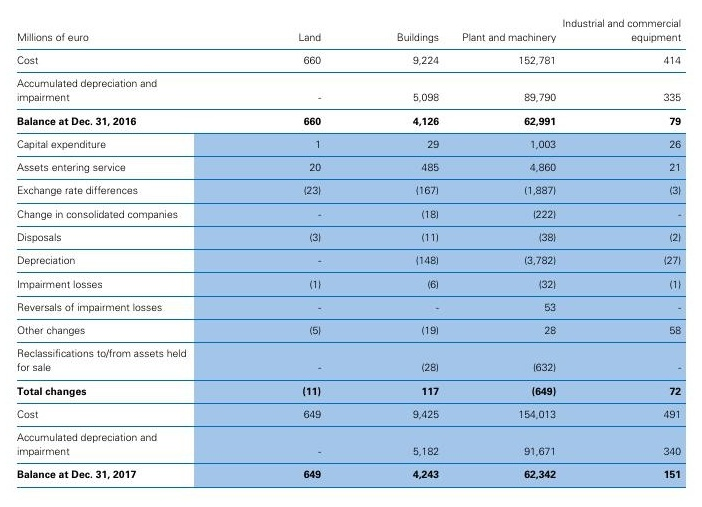table: (0, 0, 702, 507)
